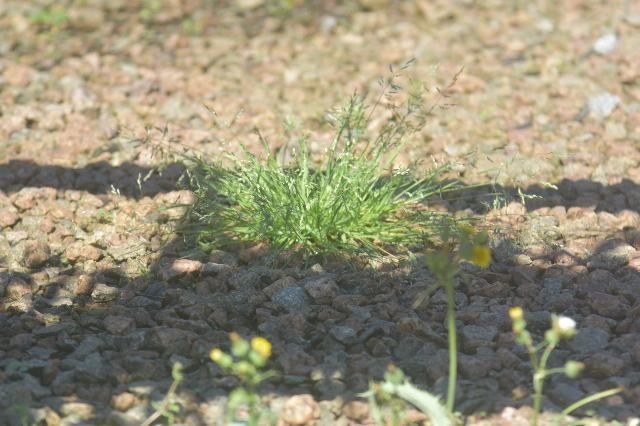MalezaMontesDelPlata: (102, 110, 497, 271)
